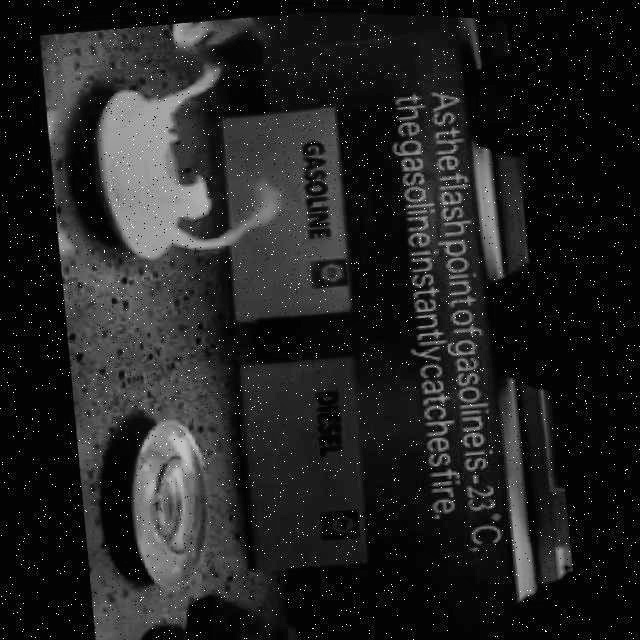Fire: (91, 47, 297, 266), (163, 8, 277, 56)
